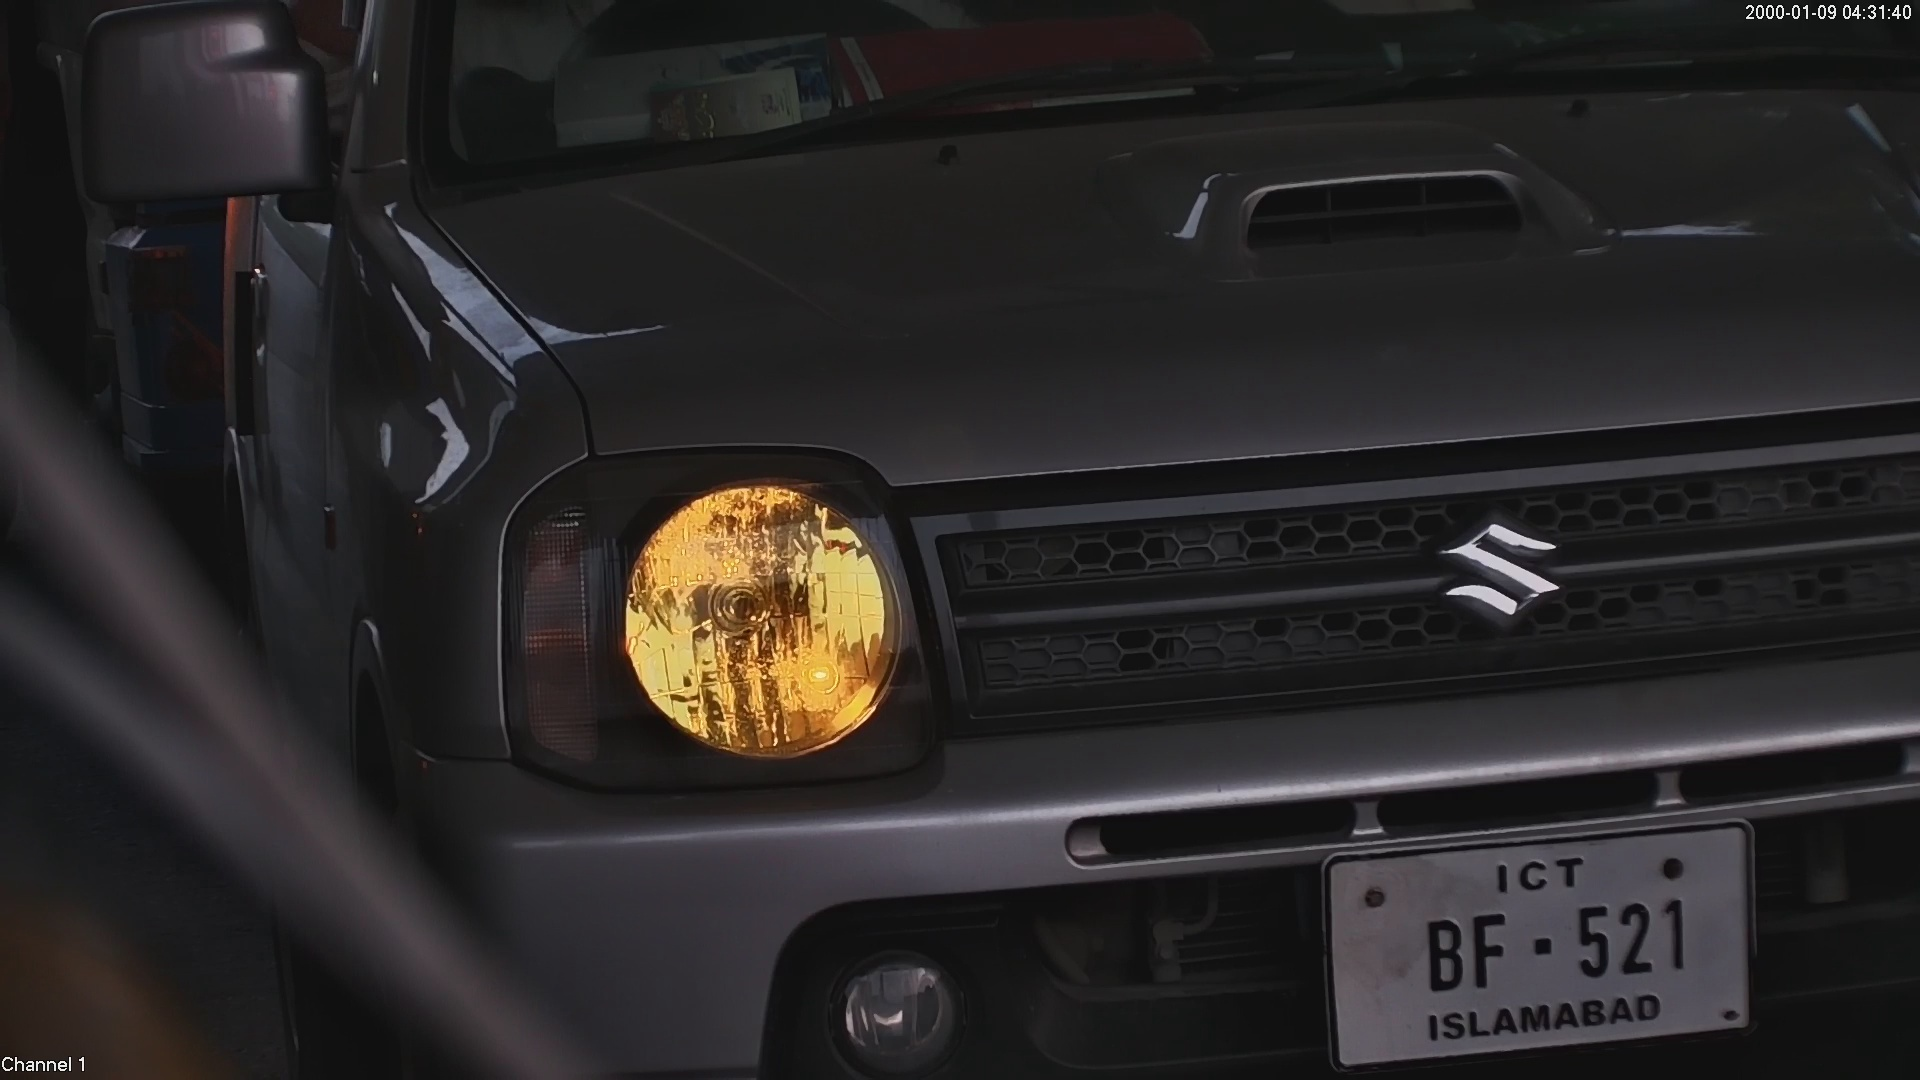Number_Plate: (1308, 820, 1758, 1057)
Undefined: (615, 473, 900, 753)
